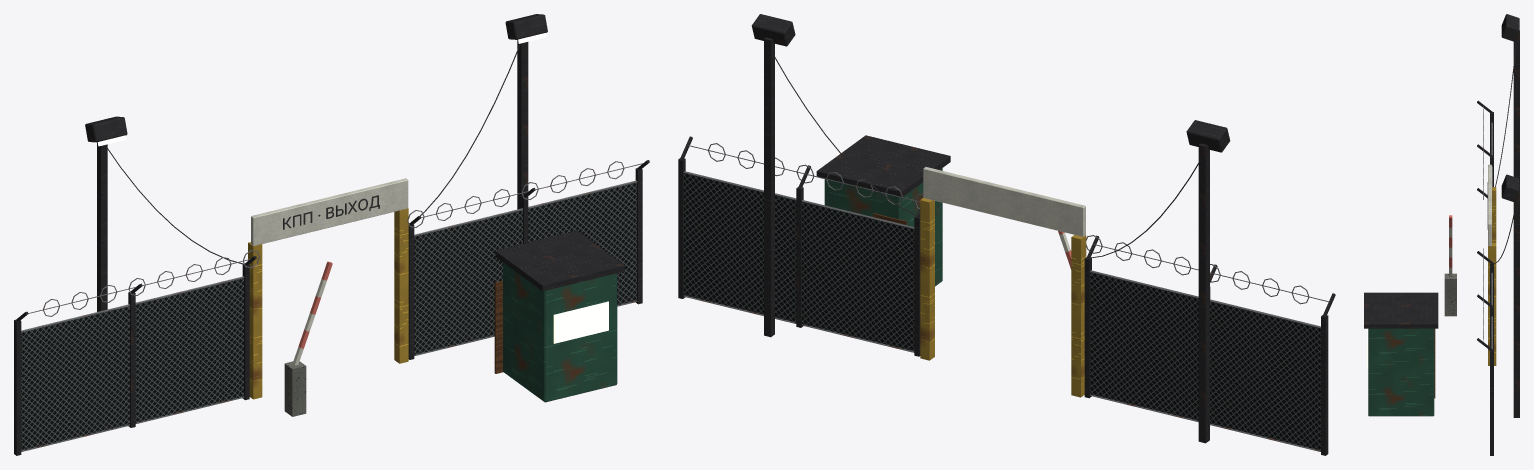
Rendered from checkpoint_gate.glb.
The picture shows the model from 3 angles, left to right: view 1: azimuth 30°, elevation 25°; view 2: azimuth 150°, elevation 25°; view 3: azimuth 270°, elevation 25°; orthographic projection. The views are drawn at different scales.
Parts seen in each view (by area): view 1: checkpoint_gate; view 2: checkpoint_gate; view 3: checkpoint_gate.
Part boxes in pixels (left/top/right/bottom): checkpoint_gate: left=14, top=14, right=649, bottom=455; checkpoint_gate: left=678, top=14, right=1335, bottom=455; checkpoint_gate: left=1364, top=14, right=1519, bottom=455.
Size of what is drawn, in the model's own units: 13.7 by 6.32 by 3.77.
Materials: 12 (8 with a texture image).
